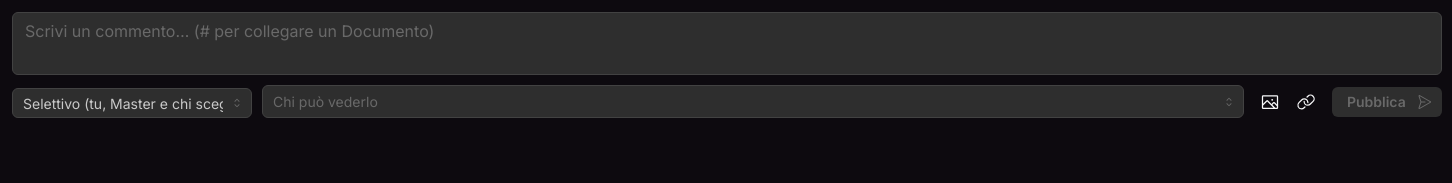
visibility › does not offer the author to themselves
Click the dropdown named "Membri che possono vedere il commento".
click(744, 102)  # box [273,90,1215,113]
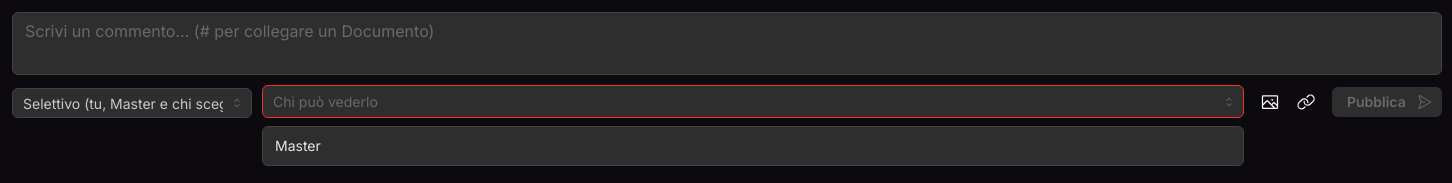
expect the text "Master" is shown: met, box [275,135,321,157]
